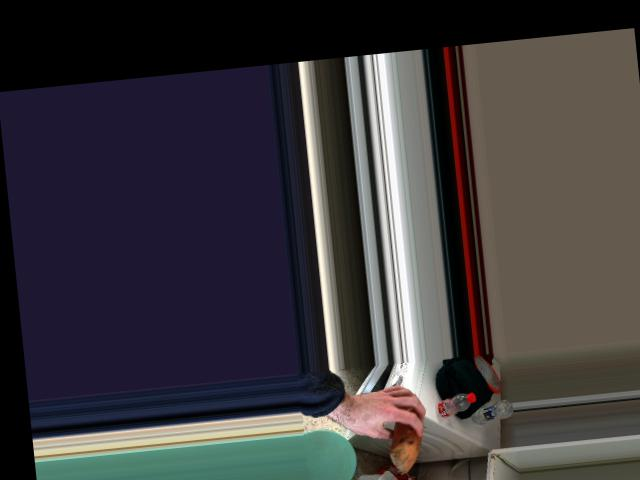sweet_potato: (386, 400, 423, 472)
